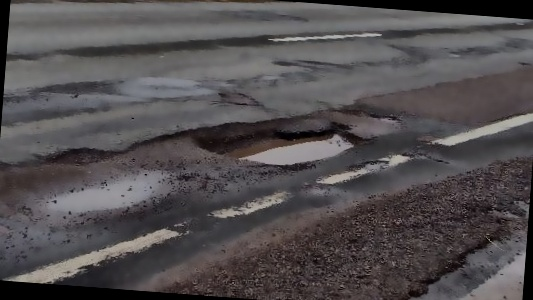pothole: (192, 108, 370, 176), (48, 143, 116, 172), (370, 111, 403, 124)
